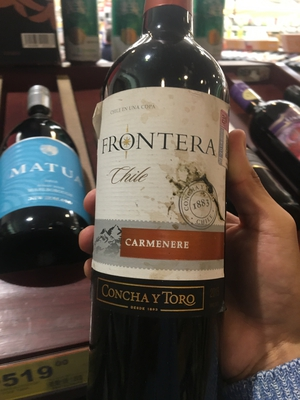frontera carmenere: (86, 26, 226, 371)
